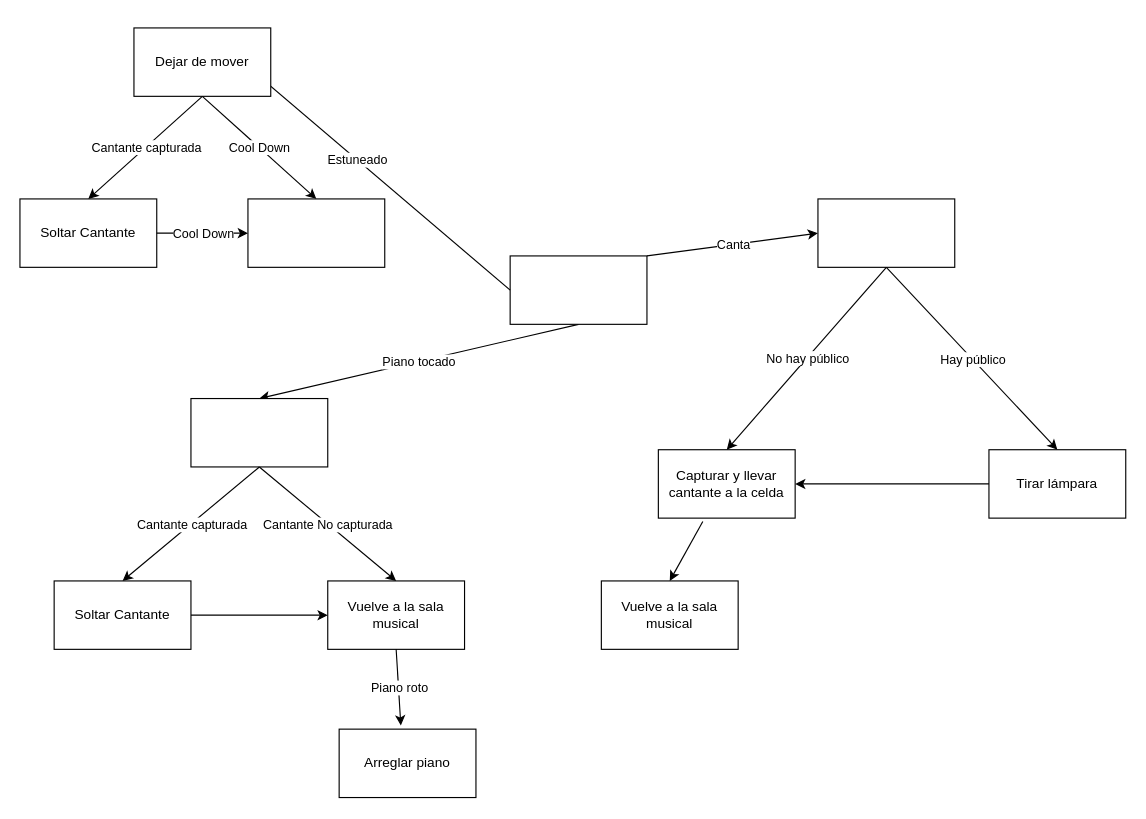
Image size: 1146x819. Some labels were removed from this diagram. Here are the shapes that lost their labels. From the top down, the centre of each, then its label:
the point at 316,232: Recuperar del stun
the point at 886,232: Ir a por la cantante
the point at 578,289: Entrada
the point at 259,432: Cancela acción actual
